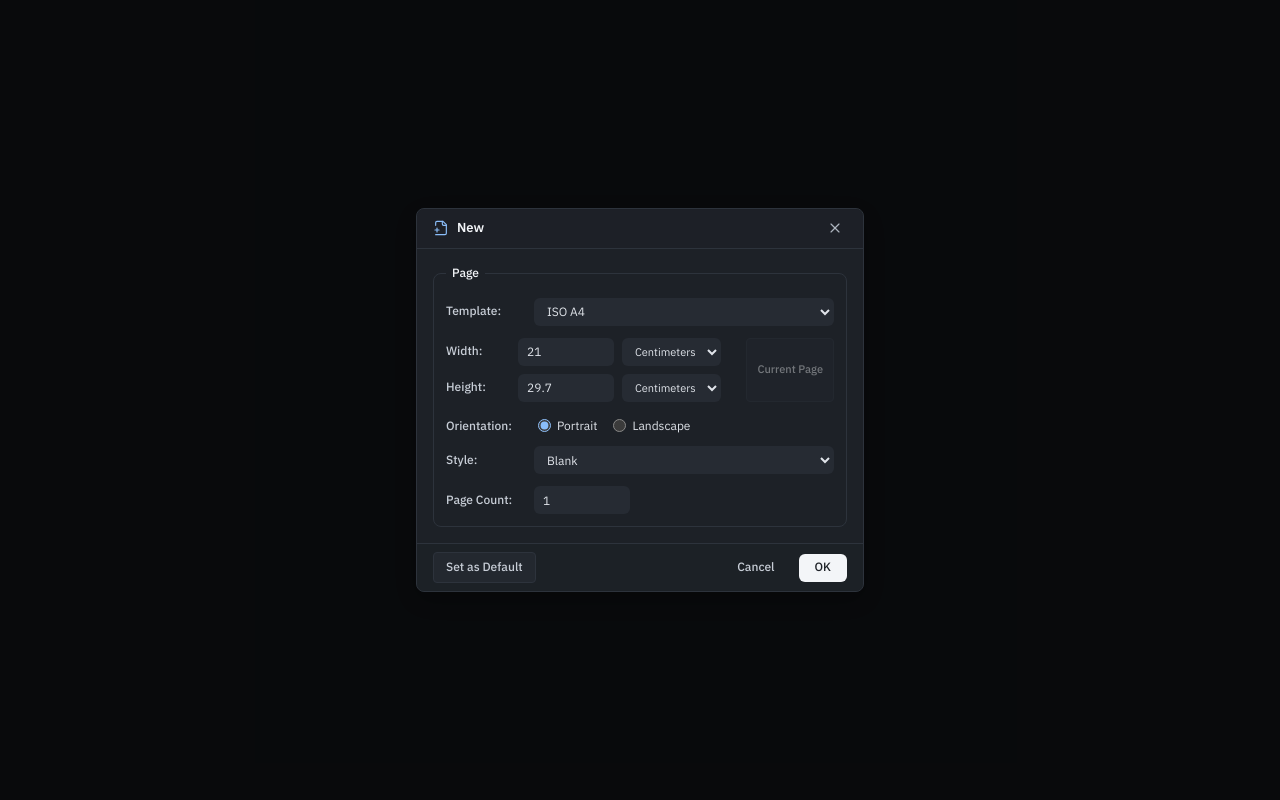
Test case: NewPdfDialog Component › al cambiar la plantilla actualiza las dimensiones y unidades
Step 1. Select "ANSI A (Letter)" in the dropdown with test id "new-pdf-template" → [684, 312], box [534,298,834,326]
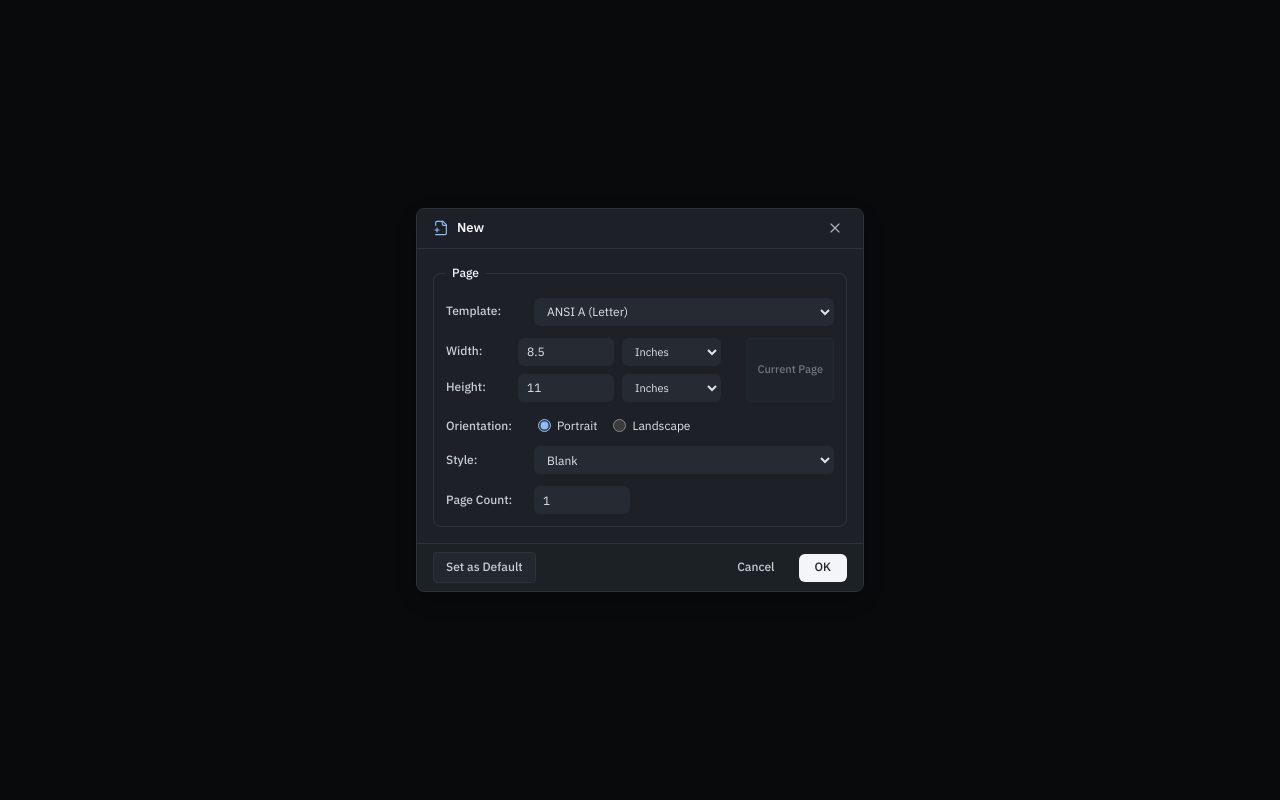
expect the dropdown with test id "new-pdf-width-unit" shows "Inches": met, box [622,338,721,366]
